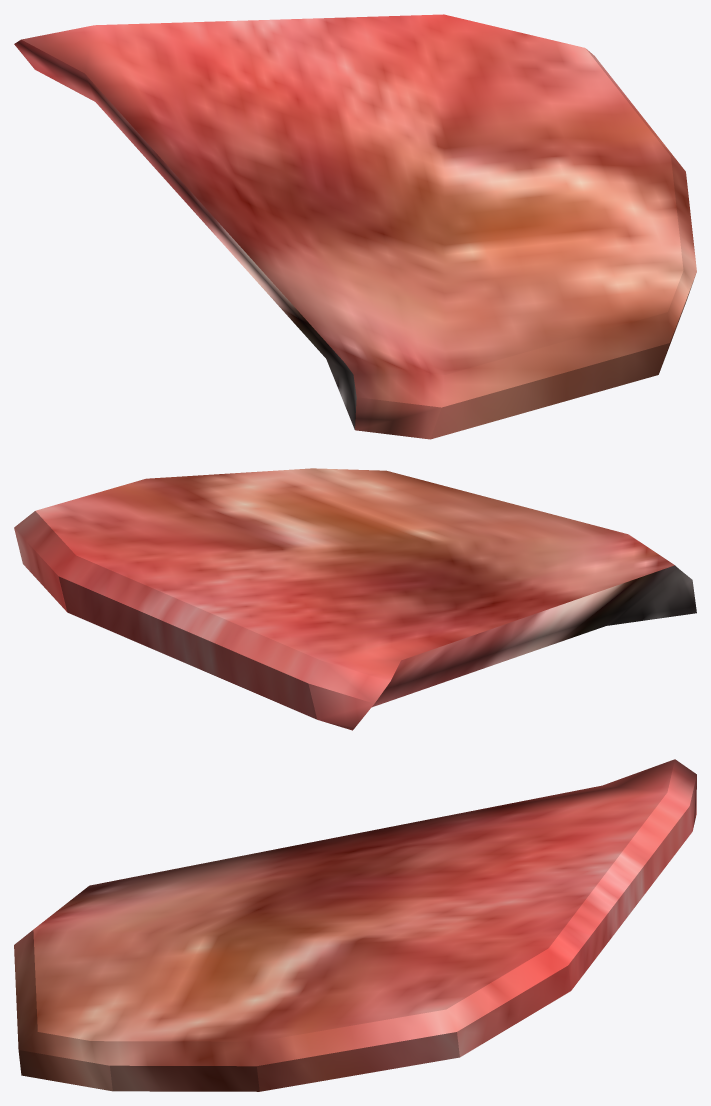
File: Beef3.fbx
3 views of the same model, one above another, from view 1: azimuth 30°, elevation 25°; view 2: azimuth 150°, elevation 25°; view 3: azimuth 270°, elevation 25° (orthographic). The views are drawn at different scales.
Visible parts, largest first — view 1: Beef; view 2: Beef; view 3: Beef.
Boxes of the visible parts, x1=… form: Beef: x1=14, y1=14, x2=696, y2=439; Beef: x1=14, y1=468, x2=696, y2=730; Beef: x1=14, y1=759, x2=696, y2=1091.
Size of the model in its own units: 462 by 167 by 594.
Materials: 1 (1 with a texture image).
